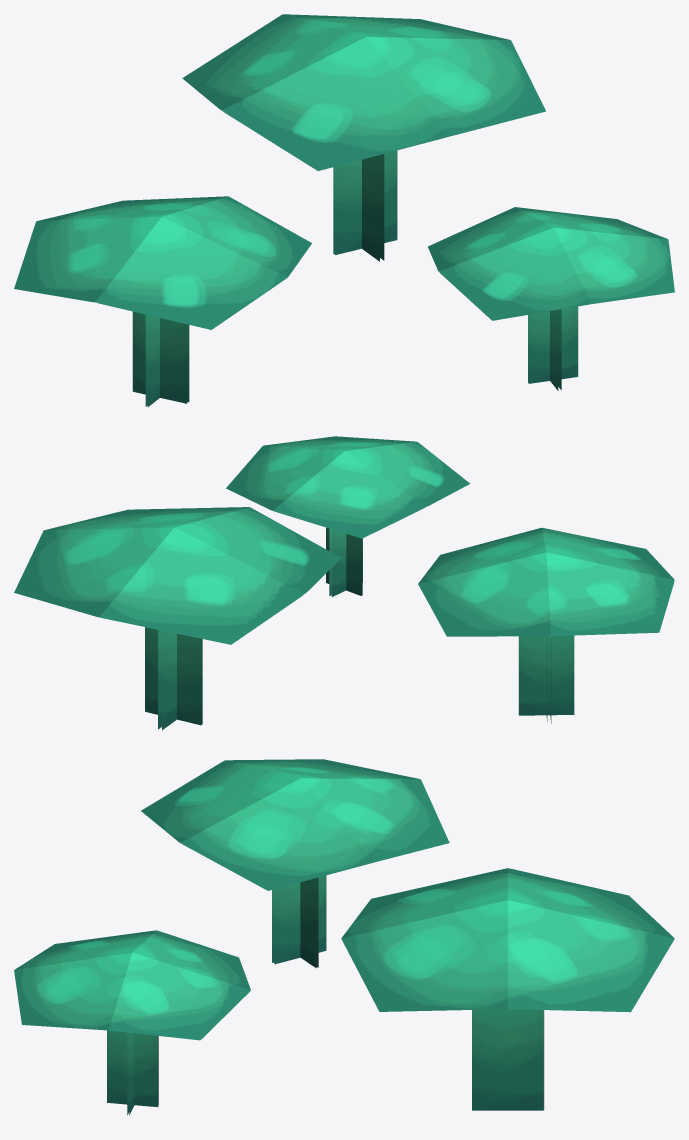
Rendered from Glow_plant07.fbx.
3 views of the same model, one above another, from view 1: azimuth 30°, elevation 25°; view 2: azimuth 150°, elevation 25°; view 3: azimuth 270°, elevation 25° (orthographic). The views are drawn at different scales.
Parts seen in each view (by area): view 1: Glow_plant_07; view 2: Glow_plant_07; view 3: Glow_plant_07.
Boxes of the visible parts, x1,y1,x2,y2 form: Glow_plant_07: (14, 14, 674, 407); Glow_plant_07: (14, 436, 674, 730); Glow_plant_07: (14, 759, 674, 1115).
Size of the model in its own units: 0.288 by 0.0984 by 0.2801.
1 material, 1 textured.
